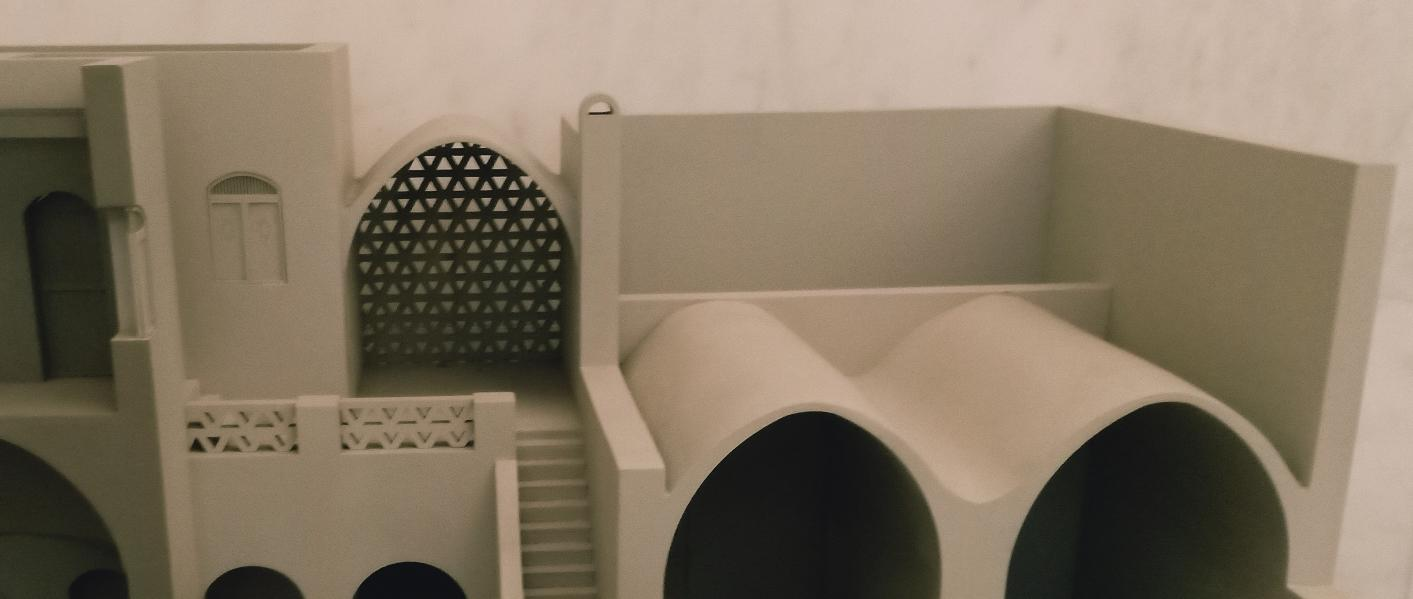HassanFathi: (0, 16, 1413, 599)
